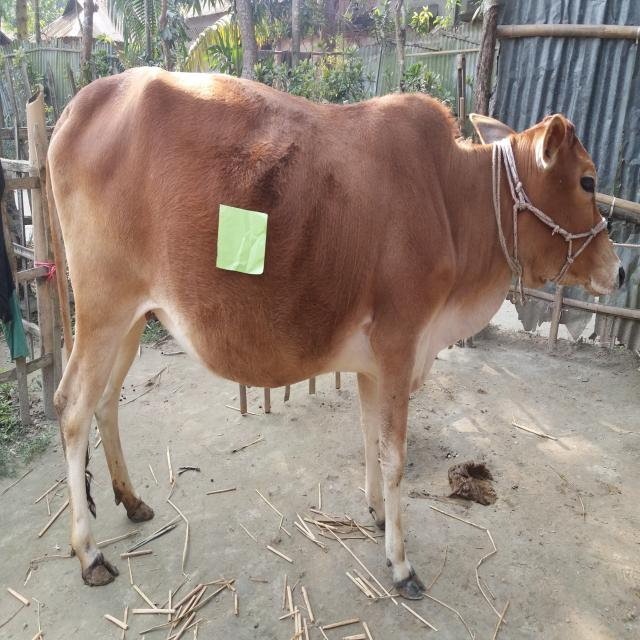badan_sapi: (79, 88, 415, 378)
sapi: (38, 63, 630, 603)
